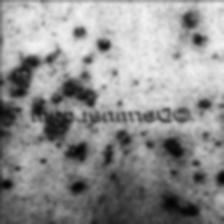Non-Cancerous Skin Condition: (0, 21, 113, 113), (182, 15, 204, 44), (164, 196, 197, 215), (160, 136, 183, 156), (46, 116, 66, 134), (68, 141, 86, 157)
